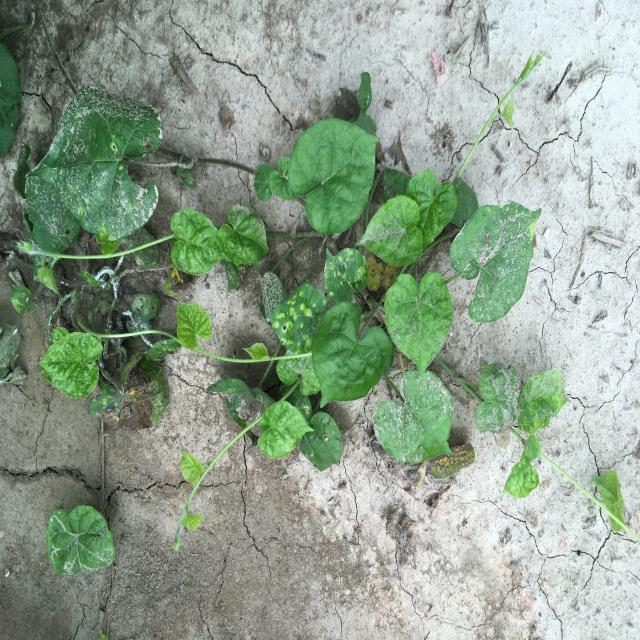MorningGlory: (1, 51, 639, 578)
